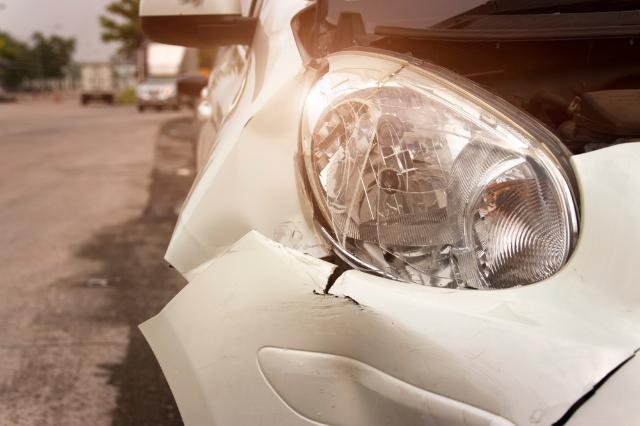crack: (549, 346, 640, 426), (321, 265, 352, 297)
dent: (163, 69, 335, 282), (300, 304, 419, 417)
dislocated part: (141, 139, 640, 426)
lamp broken: (297, 48, 574, 288)
